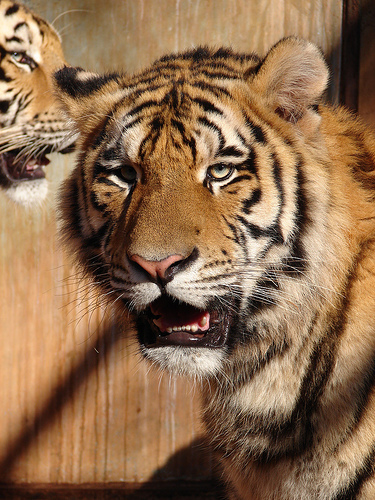Tigre: (73, 53, 375, 401)
